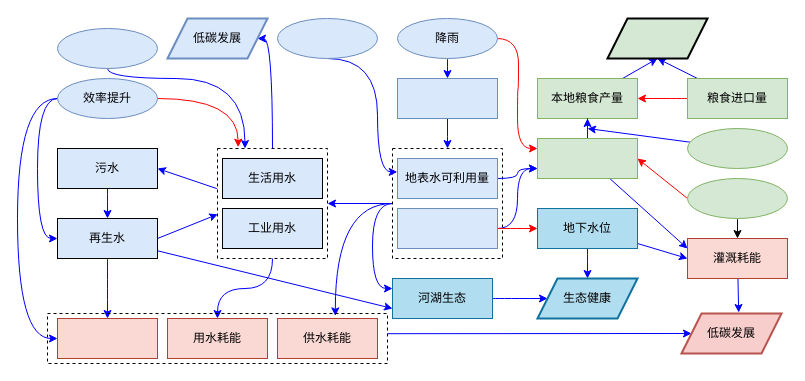
Image size: 805x381. Some labels were removed from this diagram. The centre of each missing label's shape, as x and y in pixels:
地下水可利用量: the point at 447,228
外调水: the point at 327,38
水资源量: the point at 447,98
污水处理耗能: the point at 107,338
灌溉效率: the point at 737,198
灌溉水量: the point at 587,158
灌溉面积: the point at 737,148
粮食安全: the point at 657,38
经济发展: the point at 107,48
